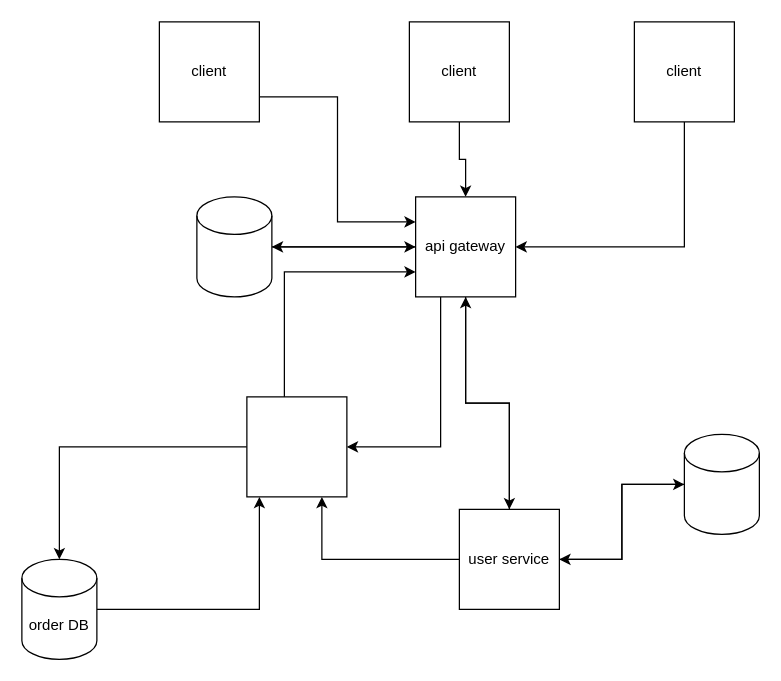
Some shapes in this 781 by 681 pixel diagram are drawn without their labels. Here are the shapes that lost their labels. From the top down, the centre of each, then its label:
At [234,246]: "redis used for cache".
At [296,446]: "order service".
At [721,483]: "user DB".
